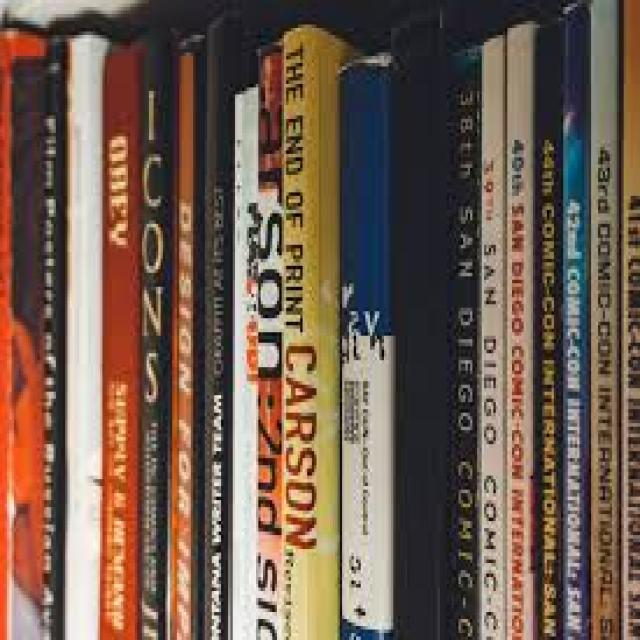book: (280, 10, 345, 640), (1, 11, 63, 640), (347, 53, 396, 640), (68, 30, 103, 635), (100, 43, 135, 640), (254, 35, 286, 640), (508, 18, 539, 633), (537, 35, 567, 638), (481, 36, 505, 640), (619, 7, 640, 640), (233, 87, 256, 640)
